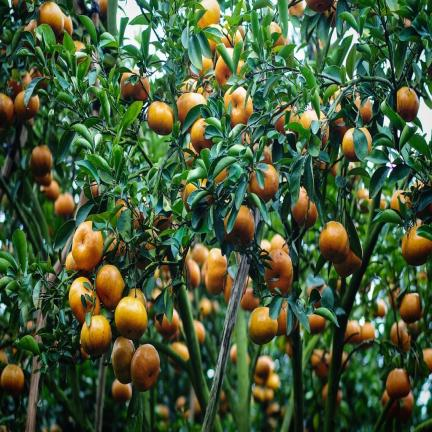oranges: (72, 221, 103, 271), (69, 277, 100, 324), (115, 296, 147, 340), (95, 265, 124, 310), (265, 249, 293, 295), (131, 345, 159, 391), (319, 221, 349, 263), (81, 315, 111, 356), (247, 165, 279, 203), (224, 87, 253, 127), (402, 225, 431, 265), (225, 206, 254, 244), (248, 307, 277, 344), (292, 187, 318, 228), (112, 336, 134, 383), (208, 24, 239, 57), (300, 110, 329, 145), (205, 249, 227, 295), (343, 128, 372, 162), (177, 92, 206, 126), (254, 382, 280, 419), (37, 2, 64, 36), (148, 101, 174, 135), (121, 70, 149, 100), (116, 199, 143, 228), (14, 90, 39, 121), (191, 118, 213, 153), (211, 24, 233, 59), (334, 250, 361, 278), (386, 368, 411, 398), (397, 87, 419, 121), (0, 365, 24, 396), (277, 300, 298, 335), (155, 309, 179, 339), (181, 77, 212, 100), (30, 145, 52, 177), (400, 292, 422, 324), (7, 72, 31, 100), (275, 106, 299, 134), (209, 24, 238, 47), (253, 386, 278, 412), (330, 103, 347, 141), (198, 0, 220, 27), (254, 356, 274, 385), (391, 321, 410, 350), (311, 349, 329, 378), (215, 56, 232, 86), (54, 193, 75, 217), (112, 379, 132, 404), (355, 96, 372, 125), (181, 183, 198, 211), (0, 94, 14, 128), (398, 392, 413, 423), (185, 259, 201, 288), (208, 24, 229, 46), (322, 383, 342, 406), (222, 26, 243, 47), (252, 383, 274, 403), (391, 190, 410, 213), (241, 287, 259, 311), (252, 383, 272, 404), (268, 234, 289, 254), (128, 288, 147, 310), (30, 68, 49, 89), (330, 118, 347, 141), (184, 141, 198, 168), (253, 385, 274, 403), (41, 180, 59, 201), (270, 22, 285, 47), (153, 214, 172, 233), (308, 314, 326, 334), (346, 320, 361, 344), (191, 244, 208, 265), (324, 0, 337, 27), (277, 300, 287, 335), (356, 189, 371, 212), (171, 342, 189, 361), (306, 0, 333, 12), (198, 56, 213, 77), (136, 248, 150, 269), (361, 321, 375, 342), (414, 203, 431, 220), (330, 88, 342, 112), (224, 273, 233, 304), (265, 372, 280, 390), (34, 172, 53, 186), (194, 320, 205, 344), (389, 285, 400, 308), (258, 146, 272, 164), (373, 299, 387, 317), (199, 298, 212, 317), (144, 231, 157, 250), (65, 252, 78, 271), (214, 169, 229, 185), (307, 284, 326, 296), (387, 400, 399, 419), (155, 405, 169, 421), (63, 13, 72, 36), (423, 348, 431, 373), (25, 20, 37, 36), (158, 264, 170, 280), (264, 225, 283, 234), (30, 67, 43, 80), (341, 351, 349, 372), (260, 239, 271, 254), (328, 162, 339, 177), (90, 182, 100, 198), (176, 396, 186, 412), (26, 320, 35, 337), (341, 351, 348, 372), (99, 0, 107, 18), (330, 89, 341, 102), (74, 41, 85, 54), (230, 344, 237, 364), (360, 283, 371, 295), (286, 336, 292, 357), (236, 25, 245, 39), (80, 346, 89, 359), (241, 132, 250, 145), (0, 349, 8, 363), (380, 195, 387, 210), (49, 424, 62, 431), (418, 272, 427, 282), (200, 265, 205, 283), (404, 18, 411, 27)
